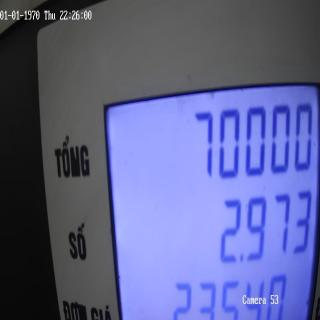screen: (96, 66, 320, 320)
